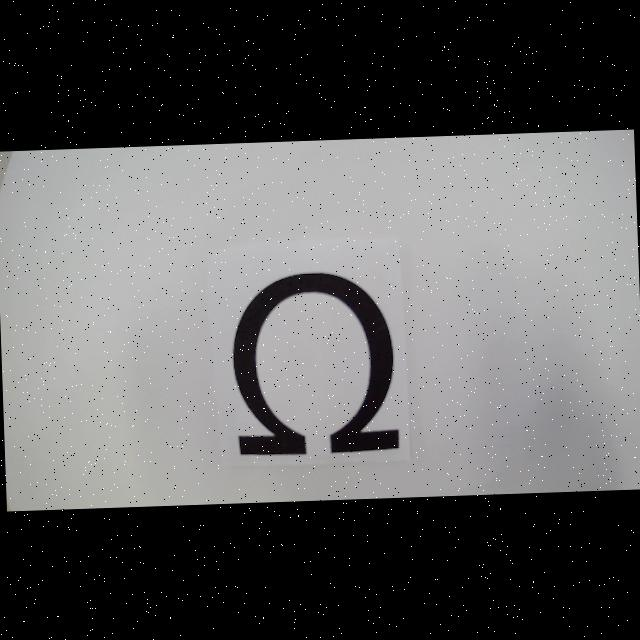OMEGA: (230, 269, 403, 456)
